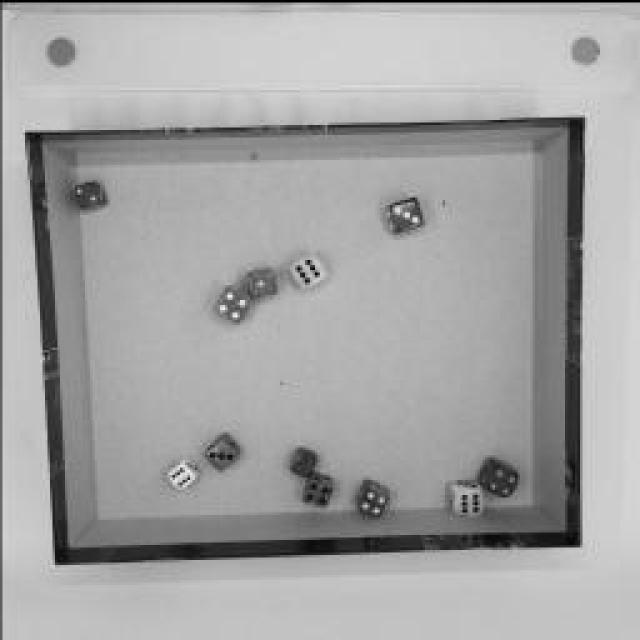dice_1: (242, 264, 278, 298)
dice_2: (68, 178, 108, 210)
dice_3: (200, 428, 245, 472), (381, 194, 424, 234), (286, 445, 319, 475)
dice_4: (474, 451, 521, 494), (211, 280, 254, 325), (351, 475, 391, 515), (299, 469, 336, 506)
dice_6: (285, 249, 330, 291), (445, 476, 485, 516), (164, 452, 198, 490)
